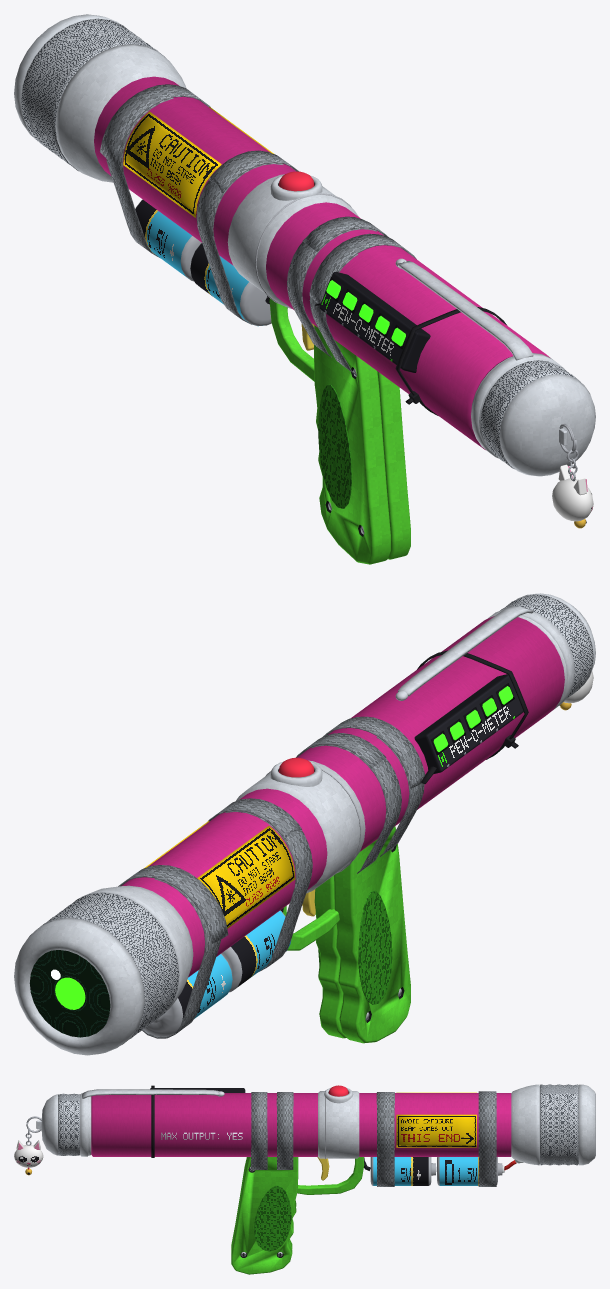
Rendered from w_laser.glb.
3 renders of one model, top to bottom at view 1: azimuth 30°, elevation 25°; view 2: azimuth 150°, elevation 25°; view 3: azimuth 270°, elevation 25°, orthographic. The views are drawn at different scales.
Visible parts, largest first — view 1: lz_body_wzB, lz_body_wzA, lz_body_wzN, lz_charm_wzN; view 2: lz_body_wzB, lz_body_wzA, lz_body_wzN, lz_emit_wzN; view 3: lz_body_wzA, lz_body_wzB, lz_body_wzN, lz_charm_wzN.
Part boxes in pixels (bbox=[...]): lz_body_wzB: bbox=[14, 14, 595, 534]; lz_body_wzA: bbox=[94, 76, 549, 564]; lz_body_wzN: bbox=[123, 107, 430, 372]; lz_charm_wzN: bbox=[552, 450, 593, 528]; lz_body_wzB: bbox=[14, 593, 595, 1055]; lz_body_wzA: bbox=[122, 616, 564, 1043]; lz_body_wzN: bbox=[29, 674, 523, 1037]; lz_emit_wzN: bbox=[55, 977, 85, 1009]; lz_body_wzA: bbox=[91, 1093, 511, 1274]; lz_body_wzB: bbox=[26, 1084, 595, 1186]; lz_body_wzN: bbox=[150, 1088, 476, 1256]; lz_charm_wzN: bbox=[14, 1129, 43, 1175].
Size of the model in its own units: 0.1091 by 0.2649 by 0.766.
Materials: 28 (15 with a texture image).
